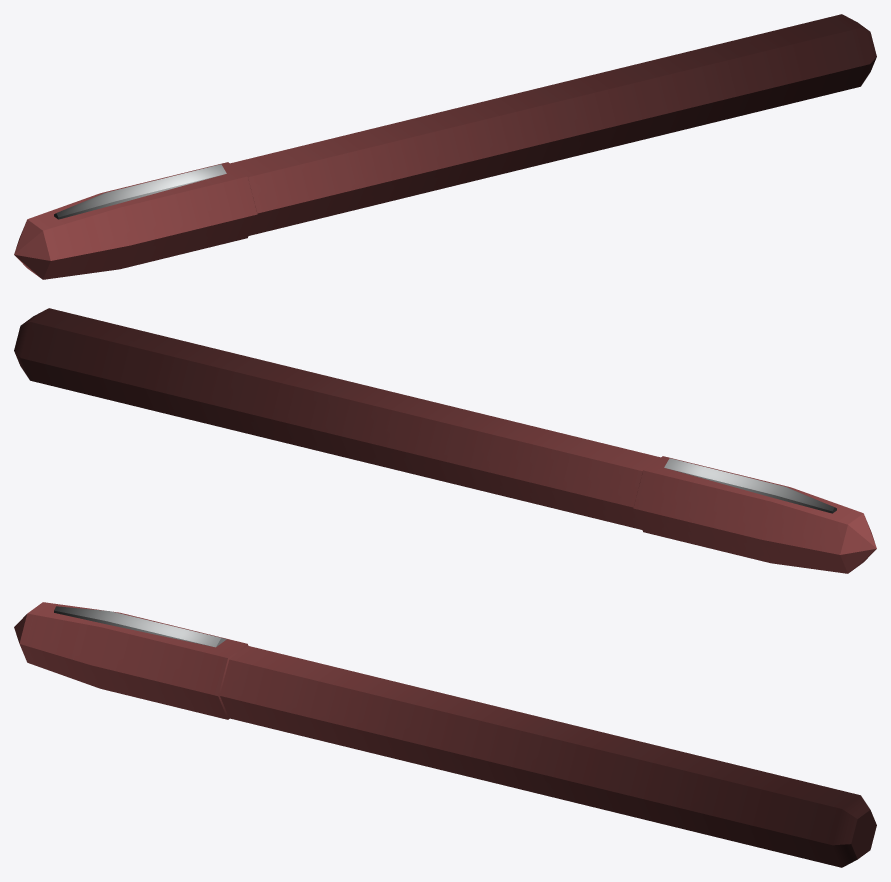
The model's file is PenClosed.fbx.
3 renders of one model, top to bottom at view 1: azimuth 30°, elevation 25°; view 2: azimuth 150°, elevation 25°; view 3: azimuth 330°, elevation 25°, orthographic.
Visible parts, largest first — view 1: PenClosed; view 2: PenClosed; view 3: PenClosed.
Part boxes in pixels (bbox=[...]): PenClosed: bbox=[14, 14, 876, 279]; PenClosed: bbox=[14, 308, 876, 573]; PenClosed: bbox=[14, 602, 876, 867].
Size of the model in its own units: 13.24 by 1.05 by 1.06.
